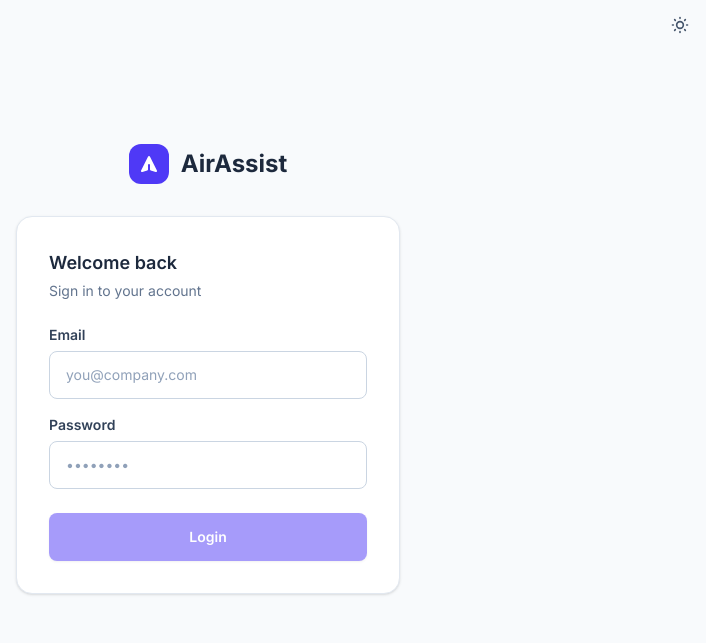
Test case: LoginPage › shows error on invalid credentials
The width and height of the screenshot is (706, 643).
In the field labelled "Email": (208, 375) [49,351,367,399], type "test@example.com"
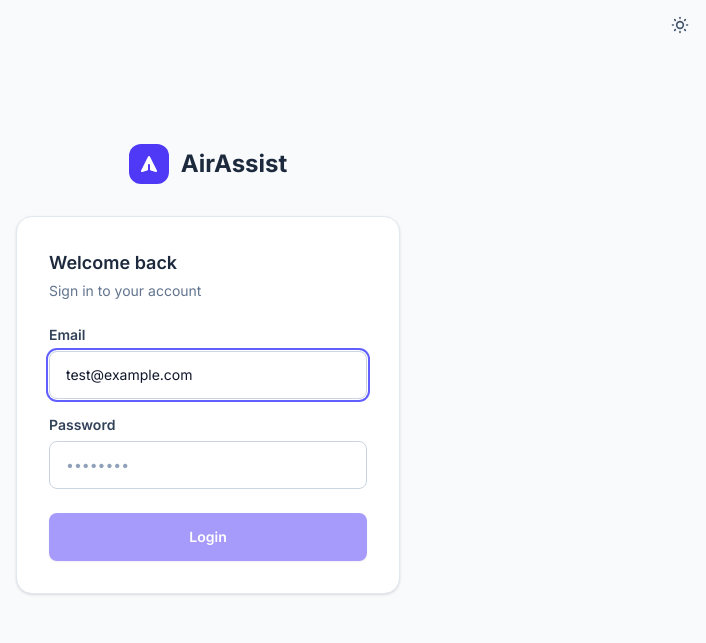
In the password field labelled "Password": (208, 465) [49,441,367,489], type "wrongpass"
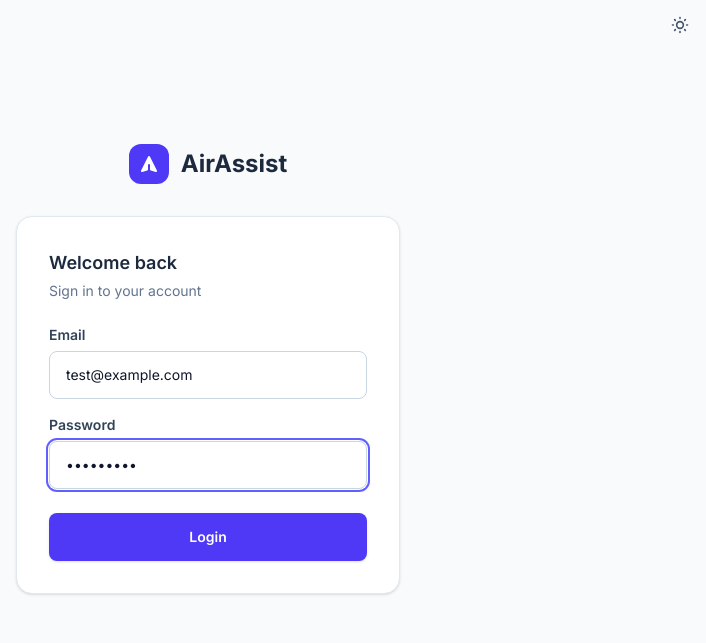
Click the button "Login": (208, 537) [49,513,367,561]
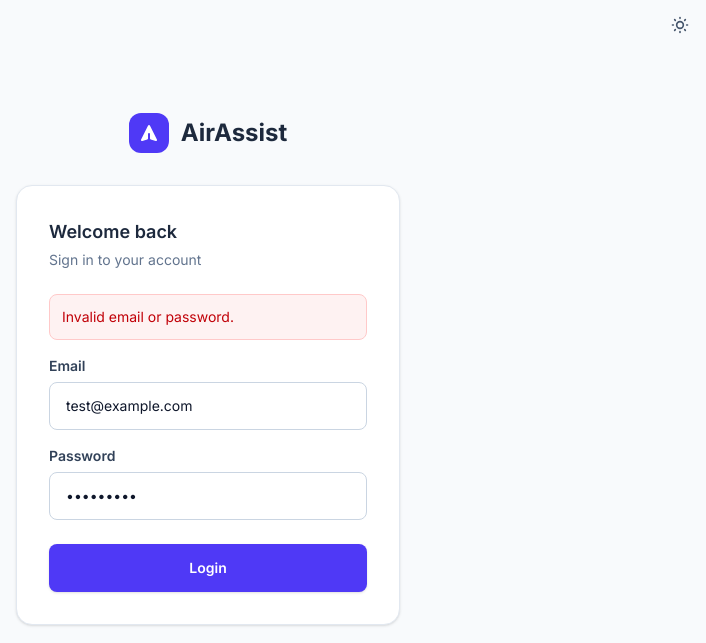
Expected: the message reads "Invalid email or password.", [62,308,234,325]
